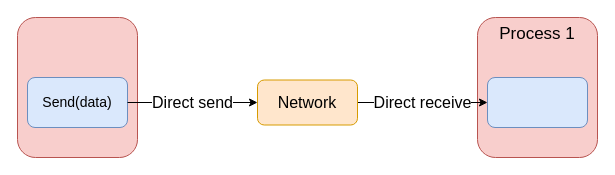
Image size: 615x175. Some labels were removed from this diagram. Each missing label, with the box of its shape:
Process 0: (16, 16, 138, 158)
Receive(data): (486, 76, 588, 128)
